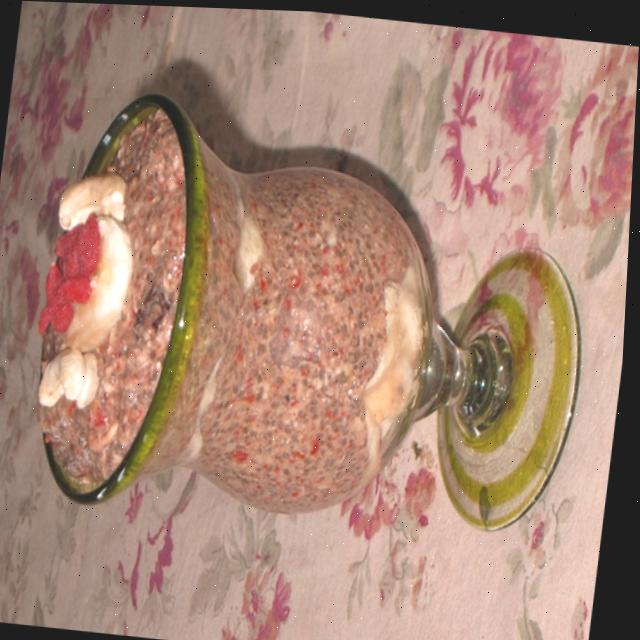蛋糕甜品: (0, 54, 628, 589)
